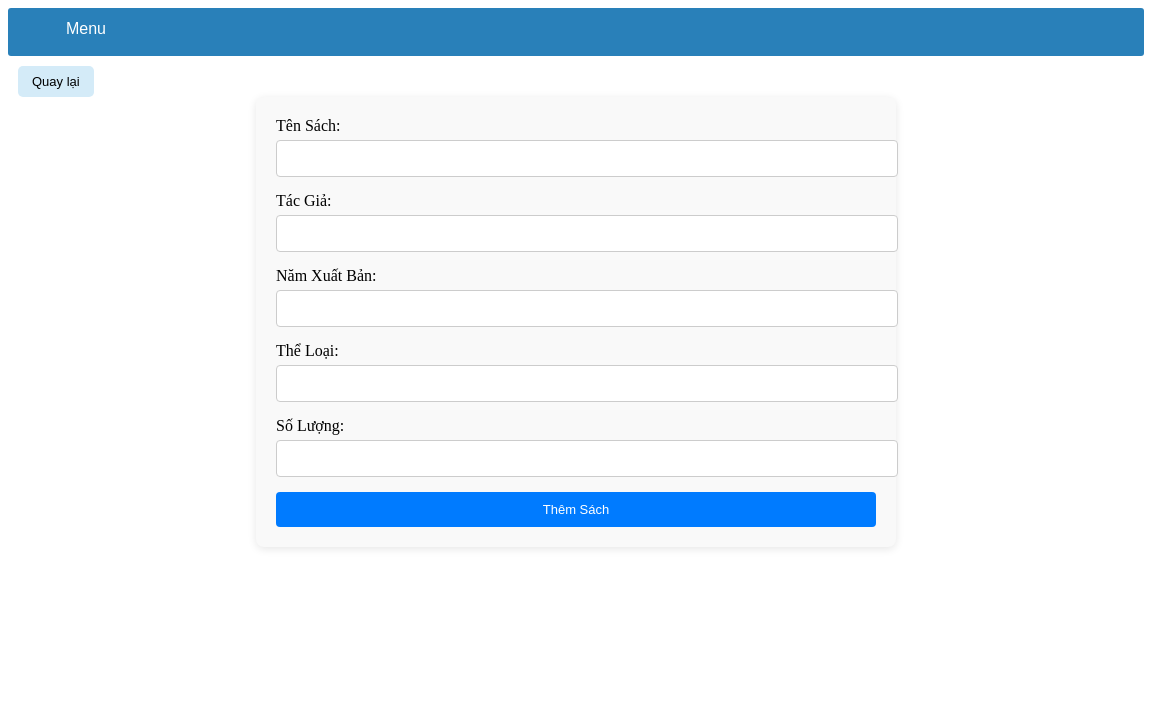
Test: Kiểm thử chức năng Thêm Sách › TC_004 - Thêm sách không thành công - Tên sách trống
This screenshot has width=1152, height=720.
In the field named "tacGia": (587, 234) [276,215,898,252], type "Nguyễn Văn A"
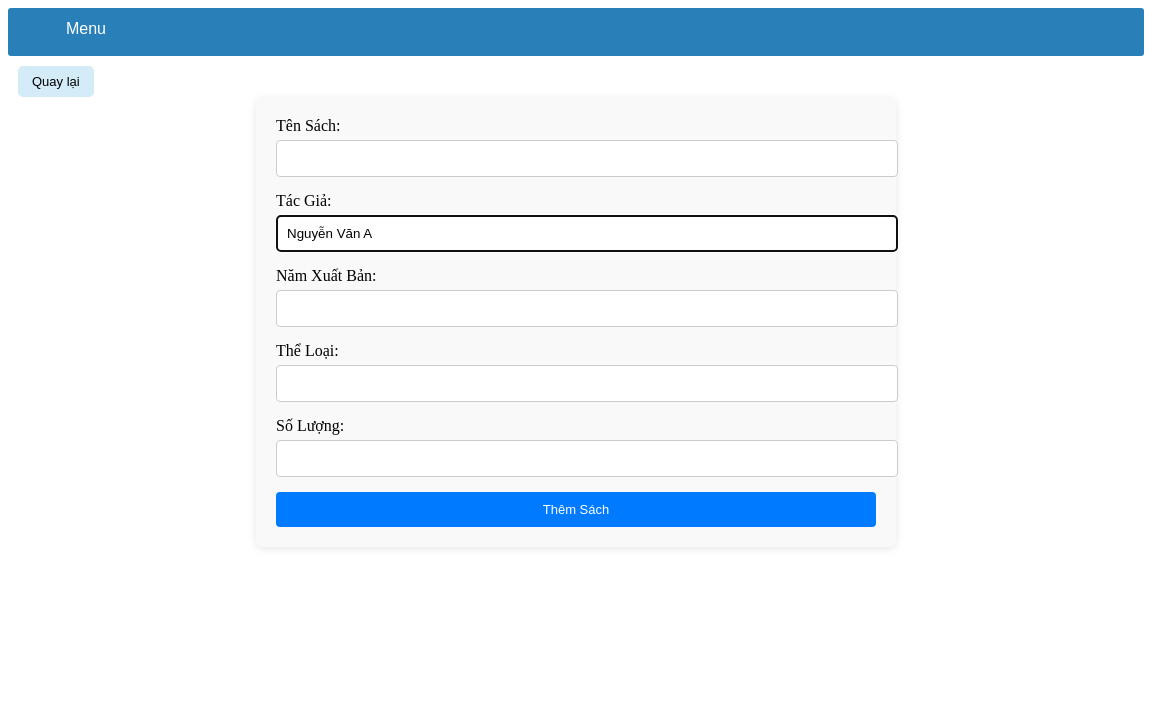
In the number field named "namXuatBan": (587, 309) [276,290,898,327], type "2023"
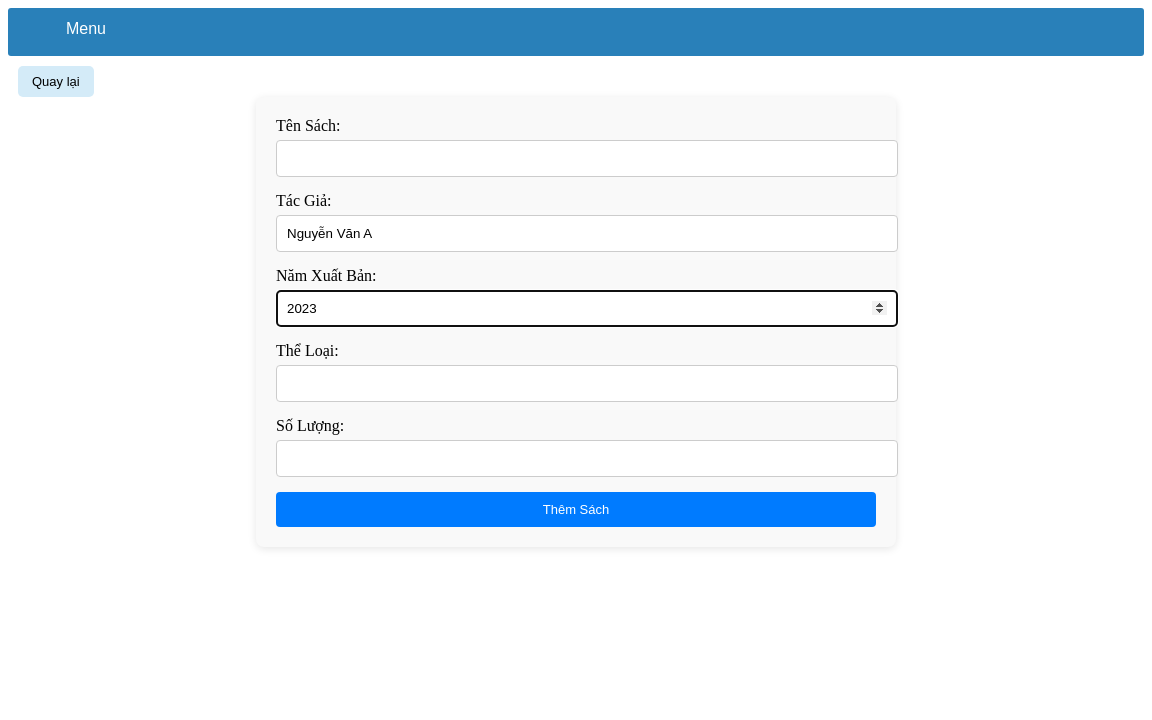
In the field named "theLoai": (587, 384) [276,365,898,402], type "Lập trình"
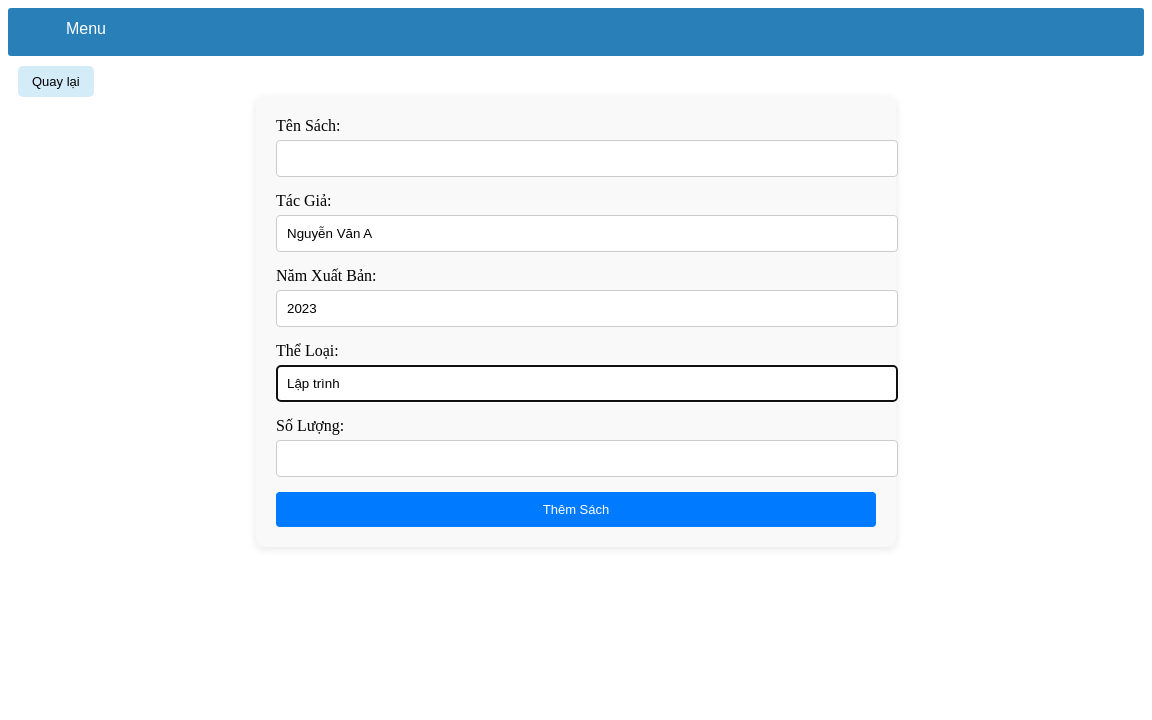
In the number field named "soLuong": (587, 459) [276,440,898,477], type "10"
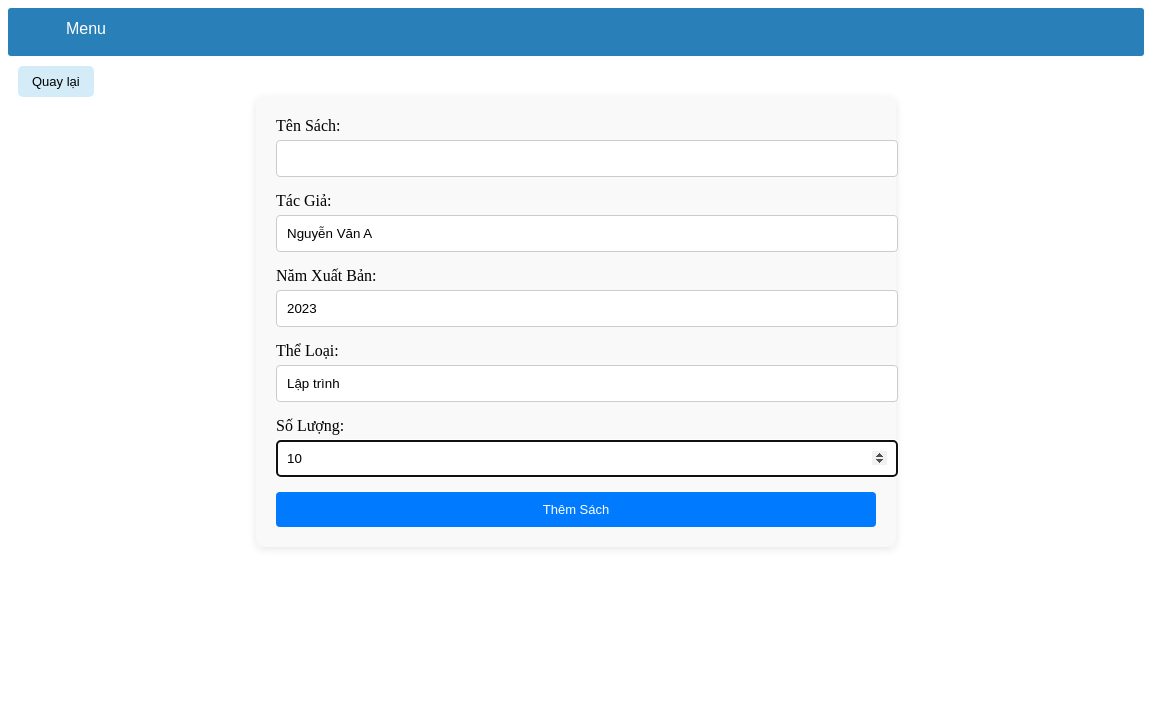
Click the submit button: (576, 510) [276,492,876,527]
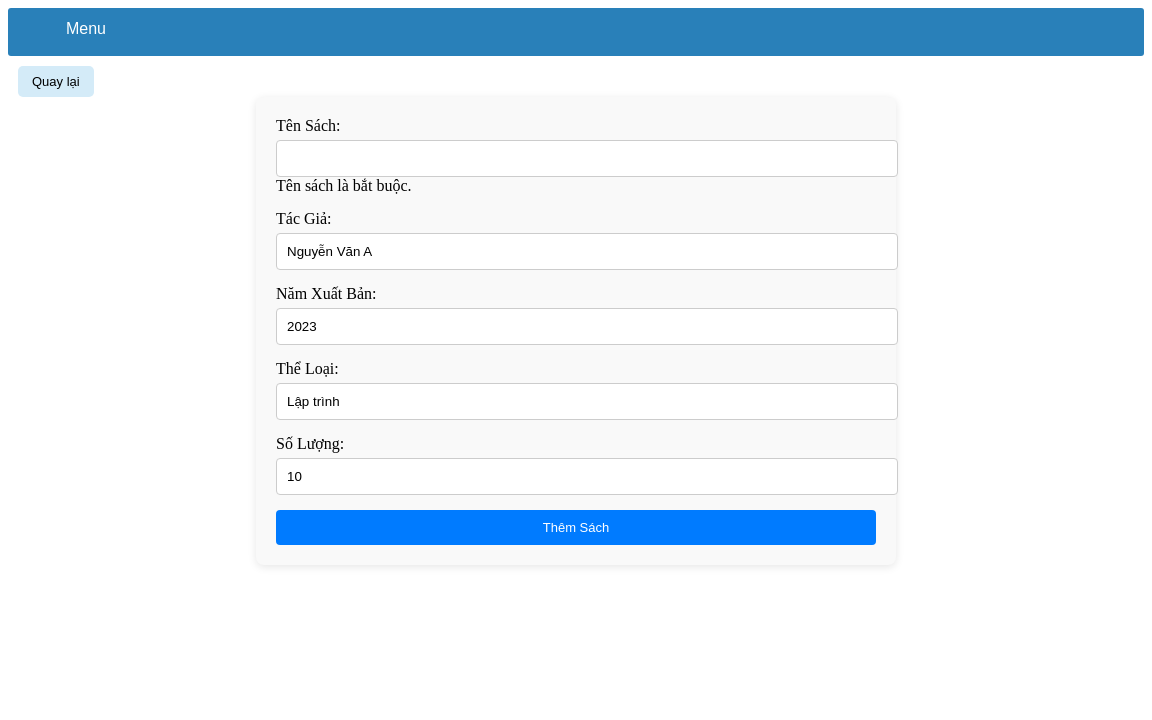
Check: the text "Tên sách là bắt buộc." is shown, box [276,177,412,194]
